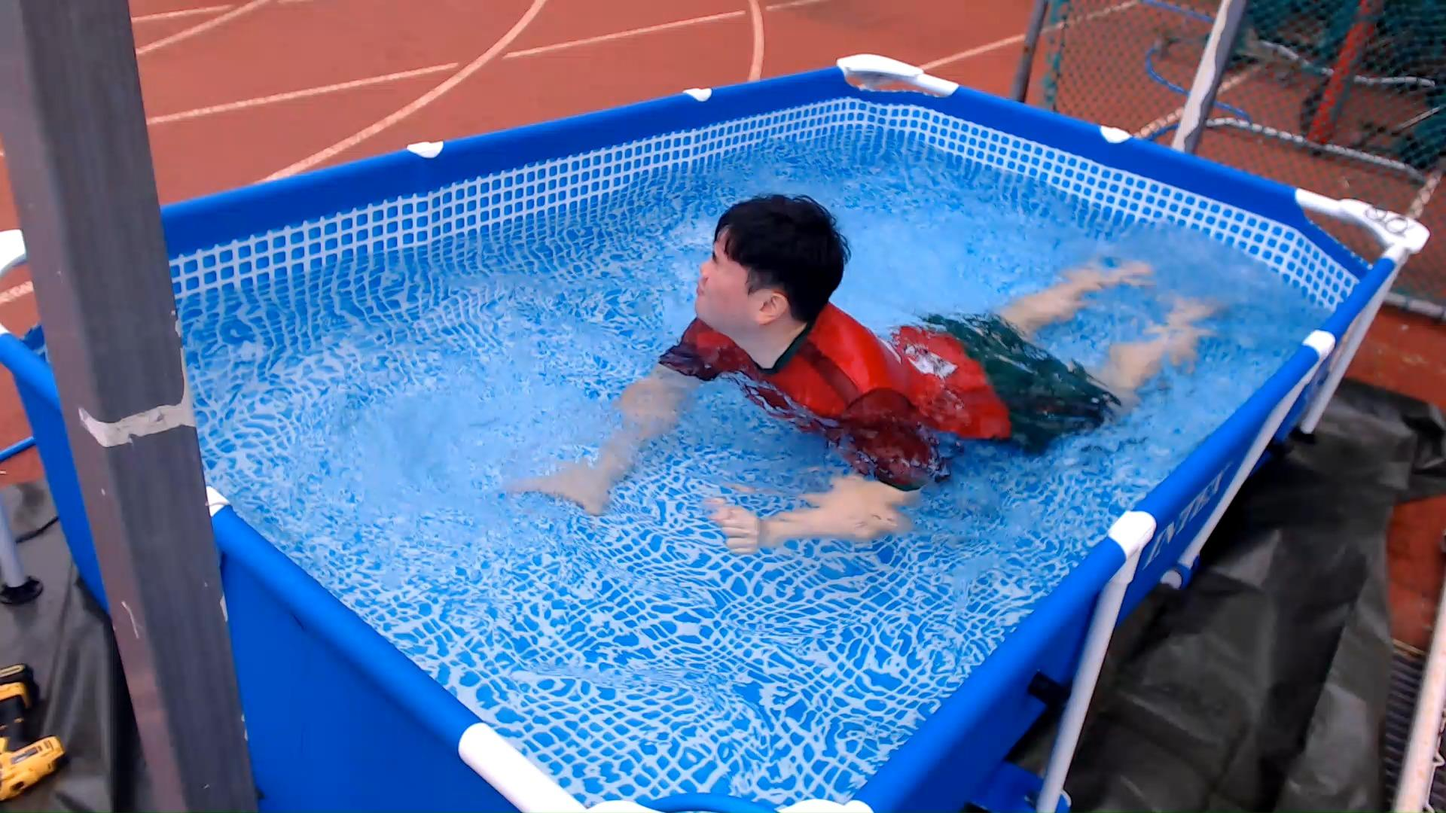Drowning: (489, 196, 1211, 610)
